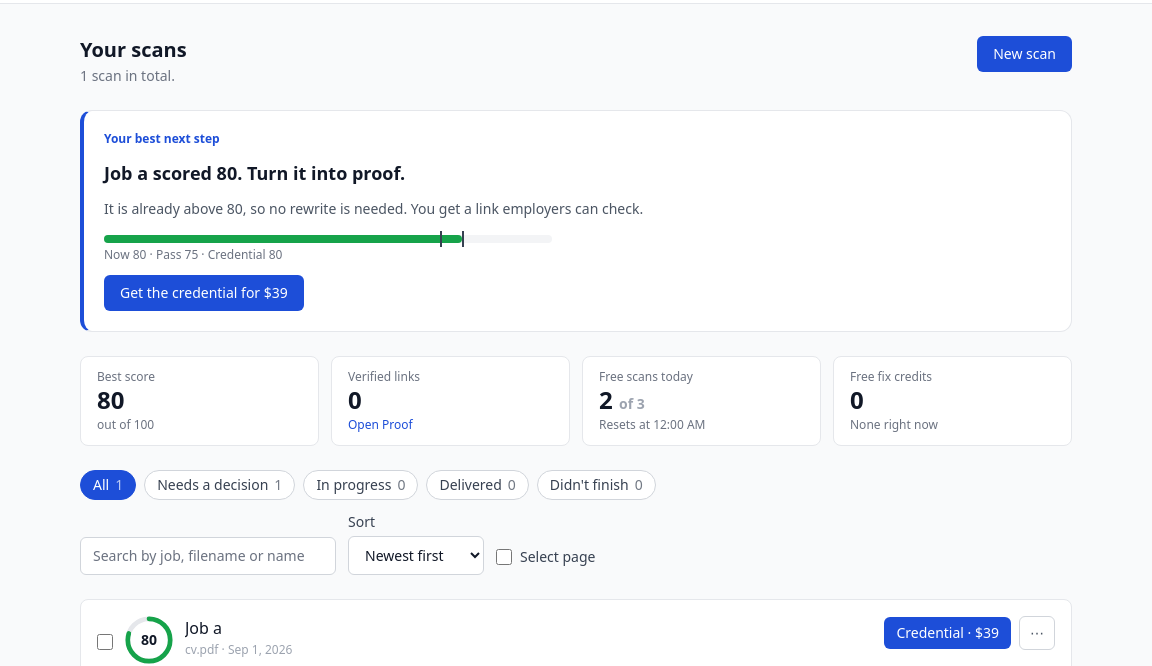
Test: dashboard — deleting a scan › any other failure is shown
Expected: the link "Job a" is shown, [185,617,222,639]
Click the button named "More actions for Job a" at [1037, 633], box [1019,616,1055,650]
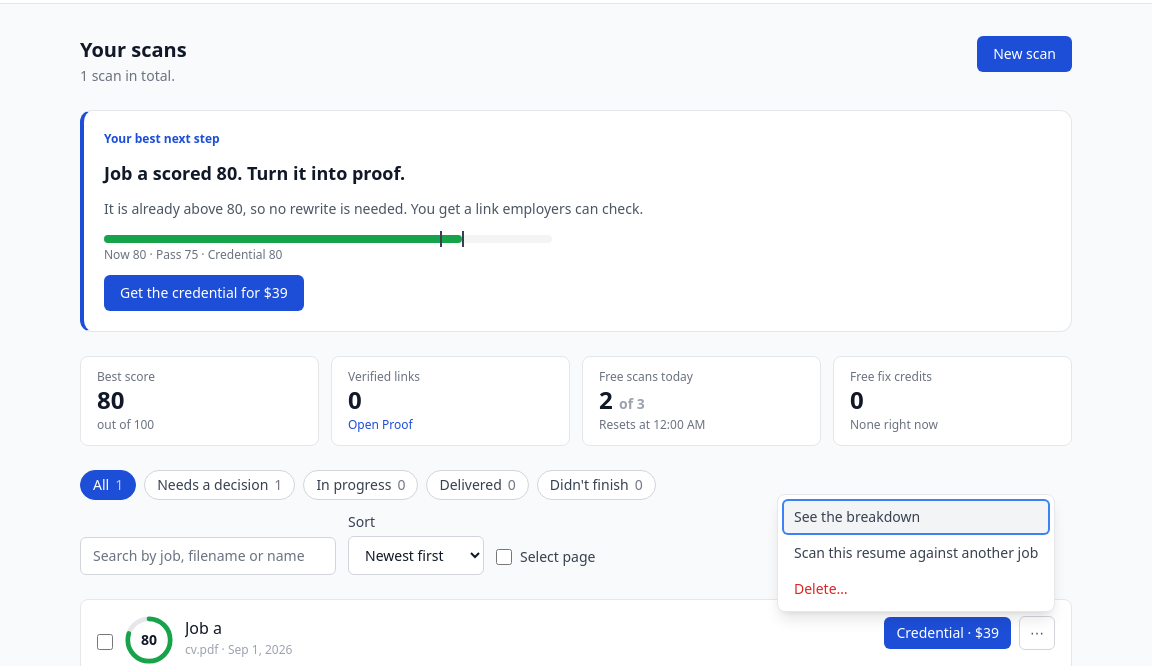
Click the menu item with aria-label "Delete Job a" at [821, 588], box [782,571,1050,607]
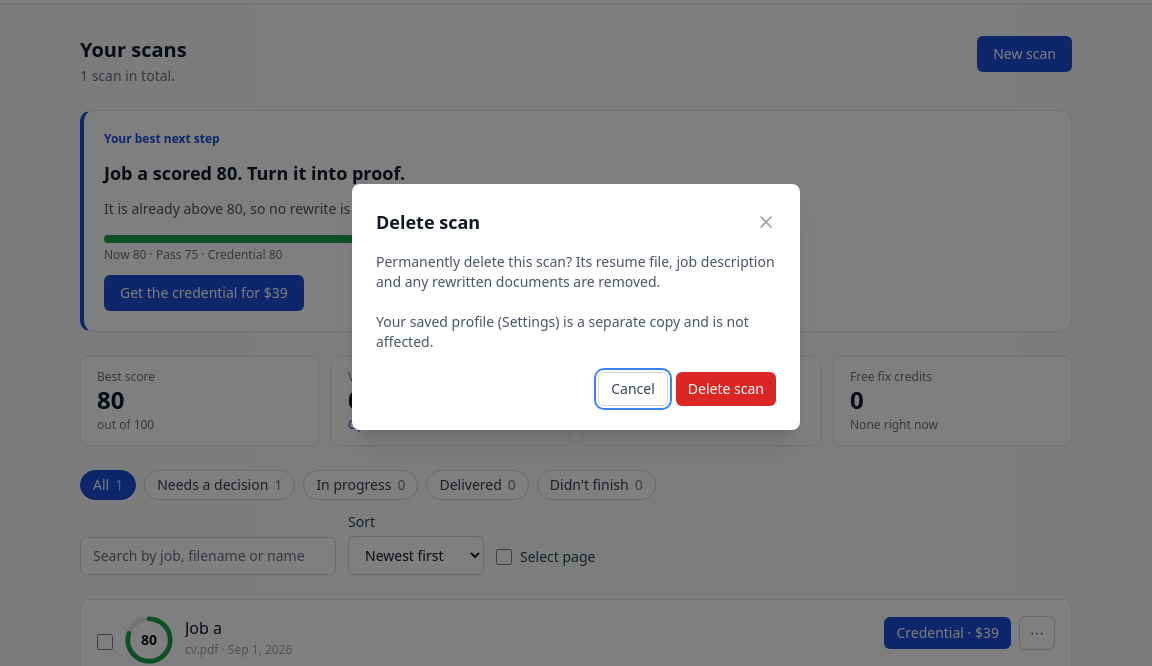
Click the button "Delete scan" at [726, 389], box [676,372,776,406]
(page scrolled)
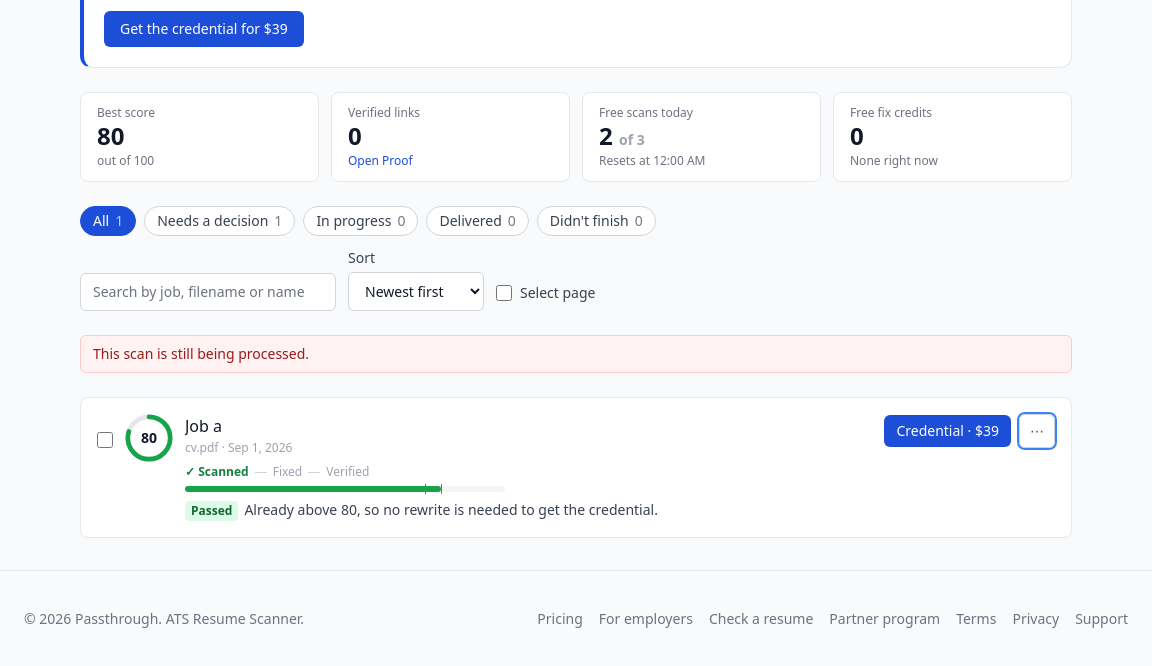
Now the text "This scan is still being processed." is shown, box [80,335,1072,373]
